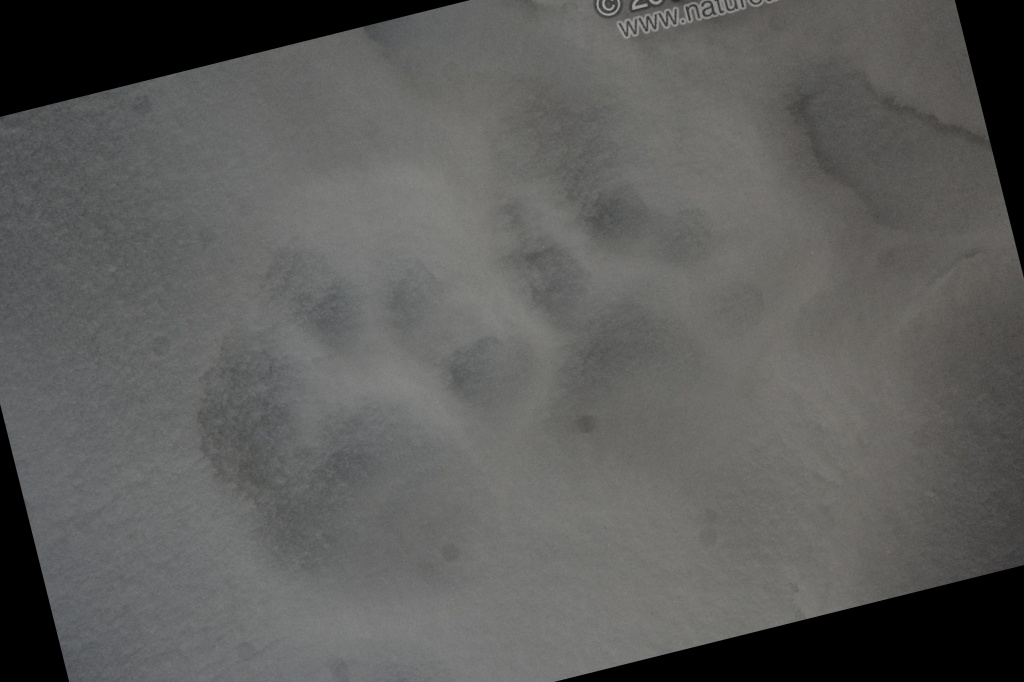lynx: (116, 195, 623, 671)
